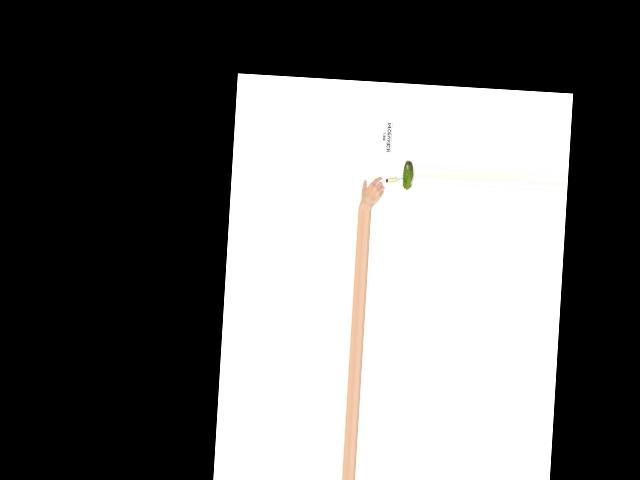cucumber: (402, 160, 413, 190)
